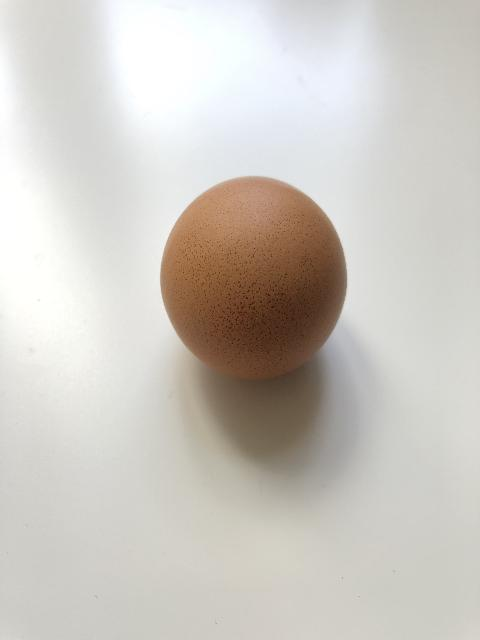Sano: (157, 175, 345, 384)
